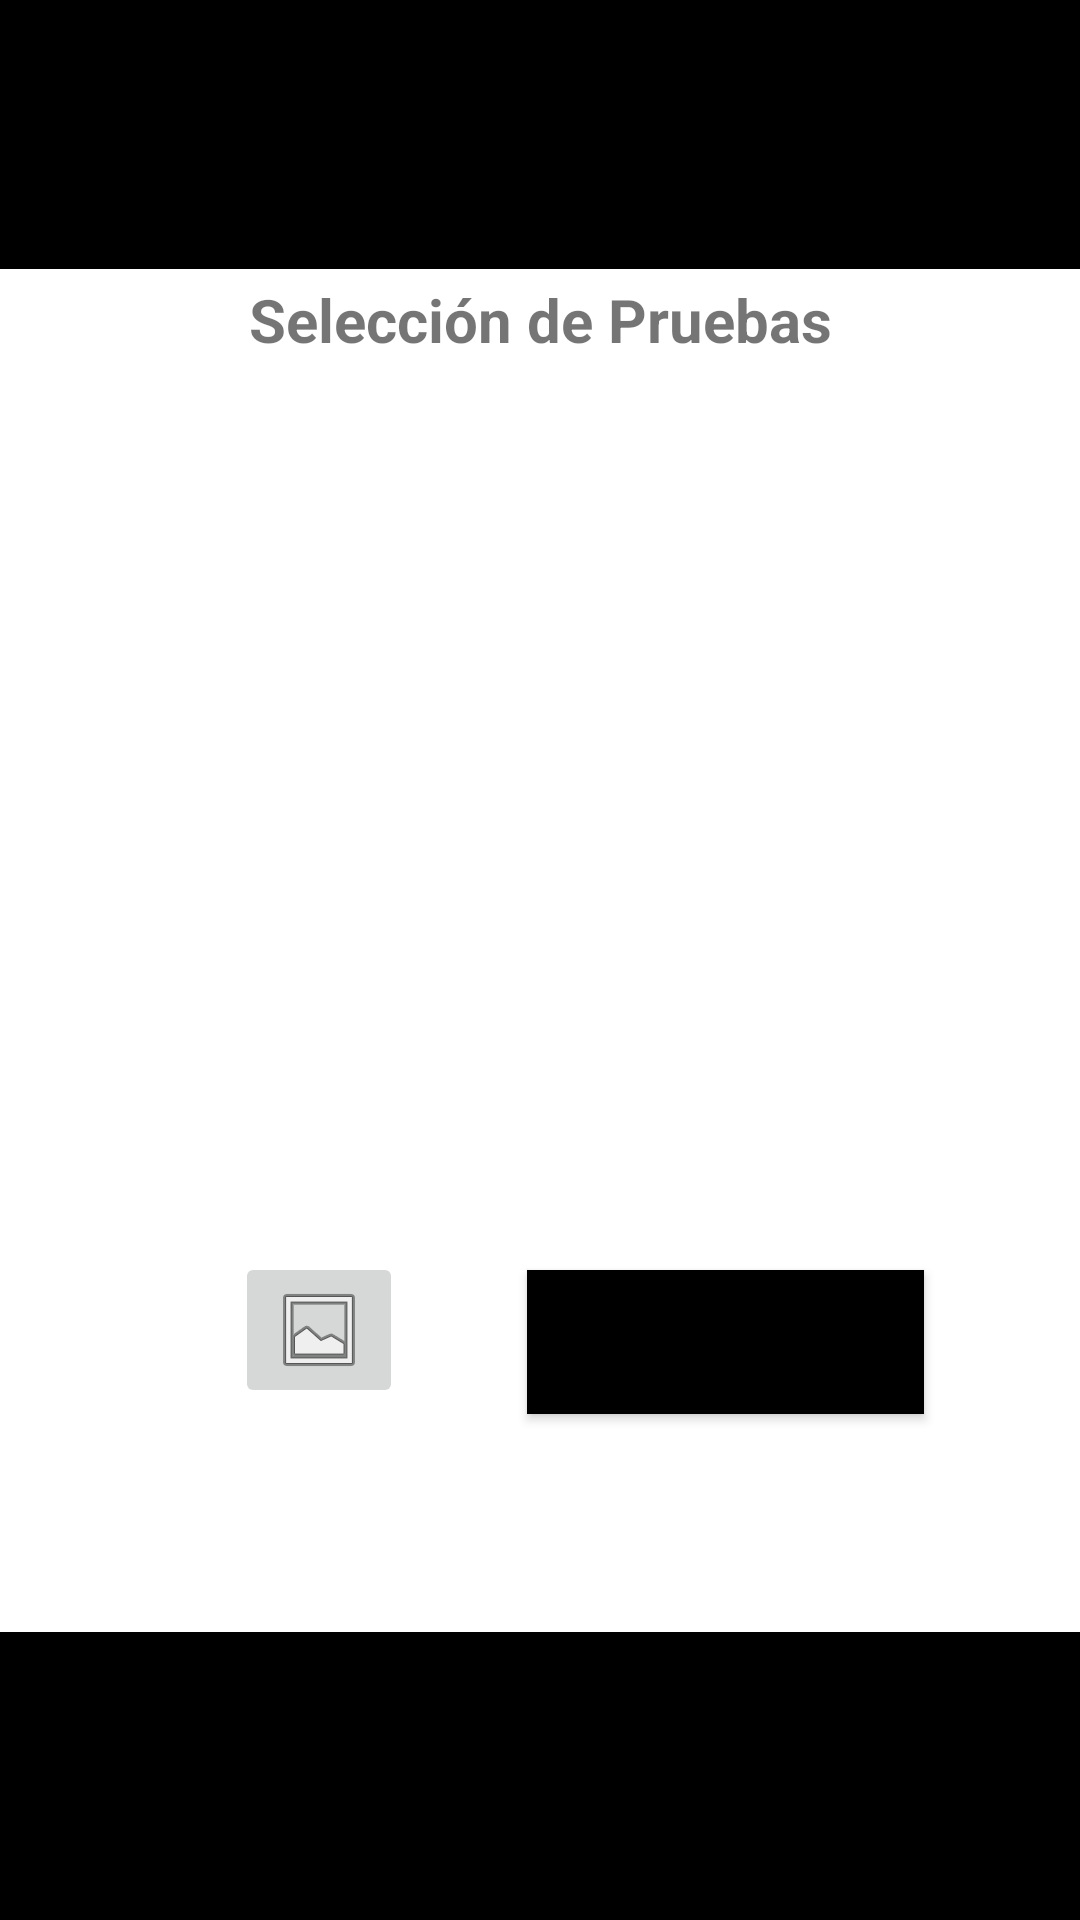

Named icons in this screenshot (1080px x 1920px) and their bounding boxes, (x1,y1,x2,y2):
gallery: (247,1270,391,1390)
